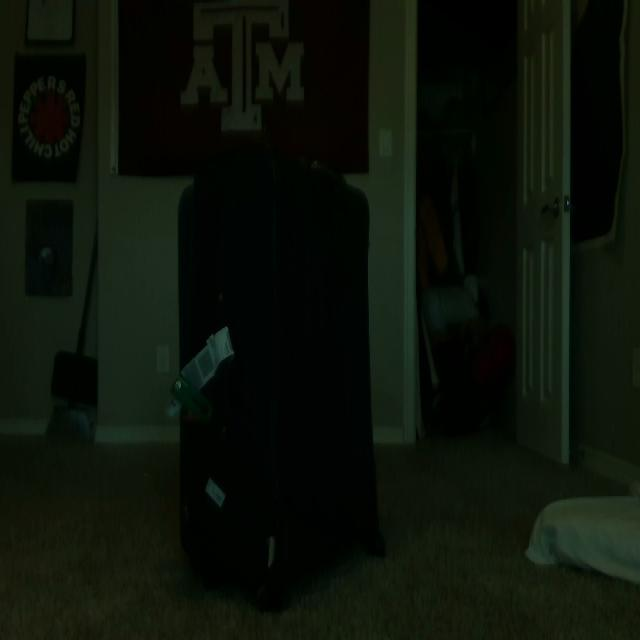suitcase: (173, 144, 384, 606)
